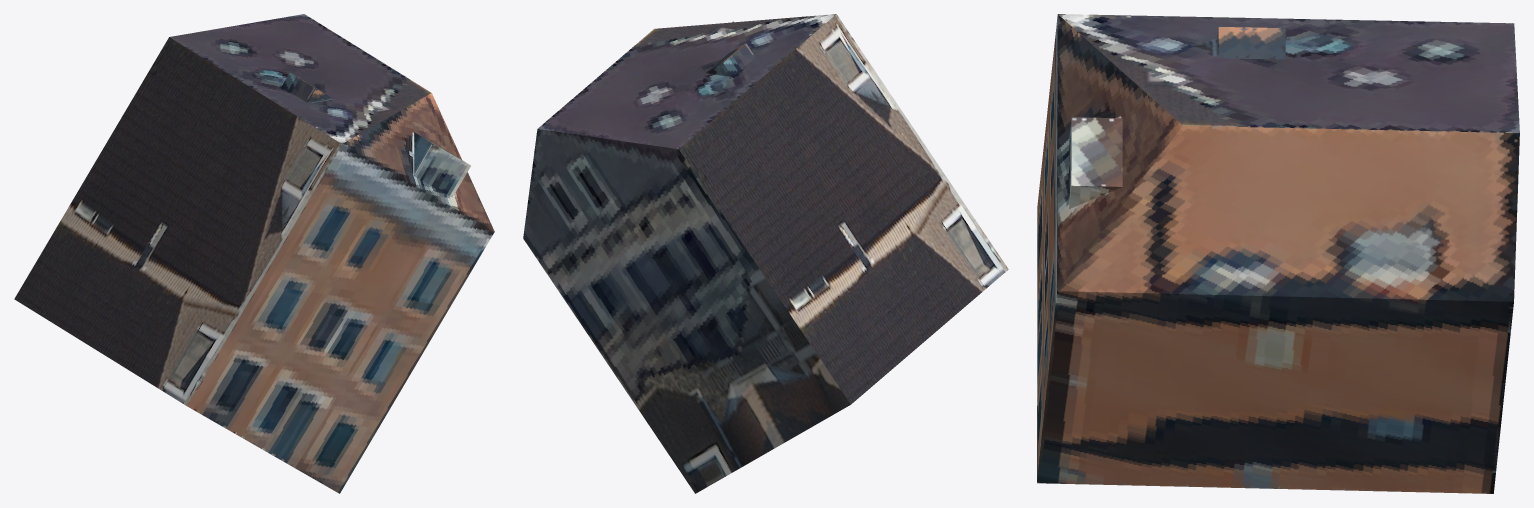
The picture shows the model from 3 angles, left to right: view 1: azimuth 30°, elevation 25°; view 2: azimuth 150°, elevation 25°; view 3: azimuth 270°, elevation 25°; orthographic projection. The views are drawn at different scales.
Parts seen in each view (by area): view 1: BAG_0599100000675886 (×7); view 2: BAG_0599100000675886 (×7); view 3: BAG_0599100000675886 (×7).
Part boxes in pixels (box(x1,y1,x2,y2)): BAG_0599100000675886 (×7): box(14, 14, 494, 493); BAG_0599100000675886 (×7): box(523, 14, 1008, 493); BAG_0599100000675886 (×7): box(1037, 14, 1519, 493).
Bounding box in the file's own units: 13.32 × 14.15 × 12.38.
1 material, 1 textured.
